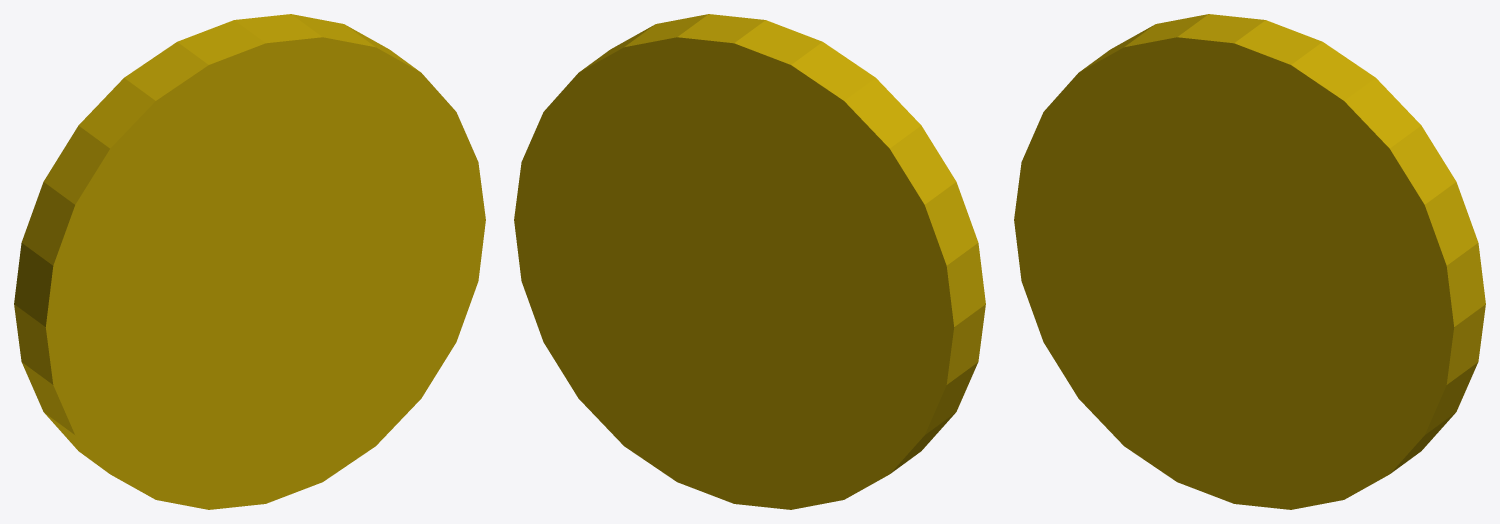
The model's file is coin.glb.
3 renders of one model, left to right at view 1: azimuth 30°, elevation 25°; view 2: azimuth 150°, elevation 25°; view 3: azimuth 330°, elevation 25°, orthographic.
Parts seen in each view (by area): view 1: coin; view 2: coin; view 3: coin.
Part boxes in pixels (left/top/right/bottom): coin: left=14, top=14, right=485, bottom=509; coin: left=514, top=14, right=985, bottom=509; coin: left=1014, top=14, right=1485, bottom=509.
Bounding box in the file's own units: 0.8 × 0.8 × 0.1.
